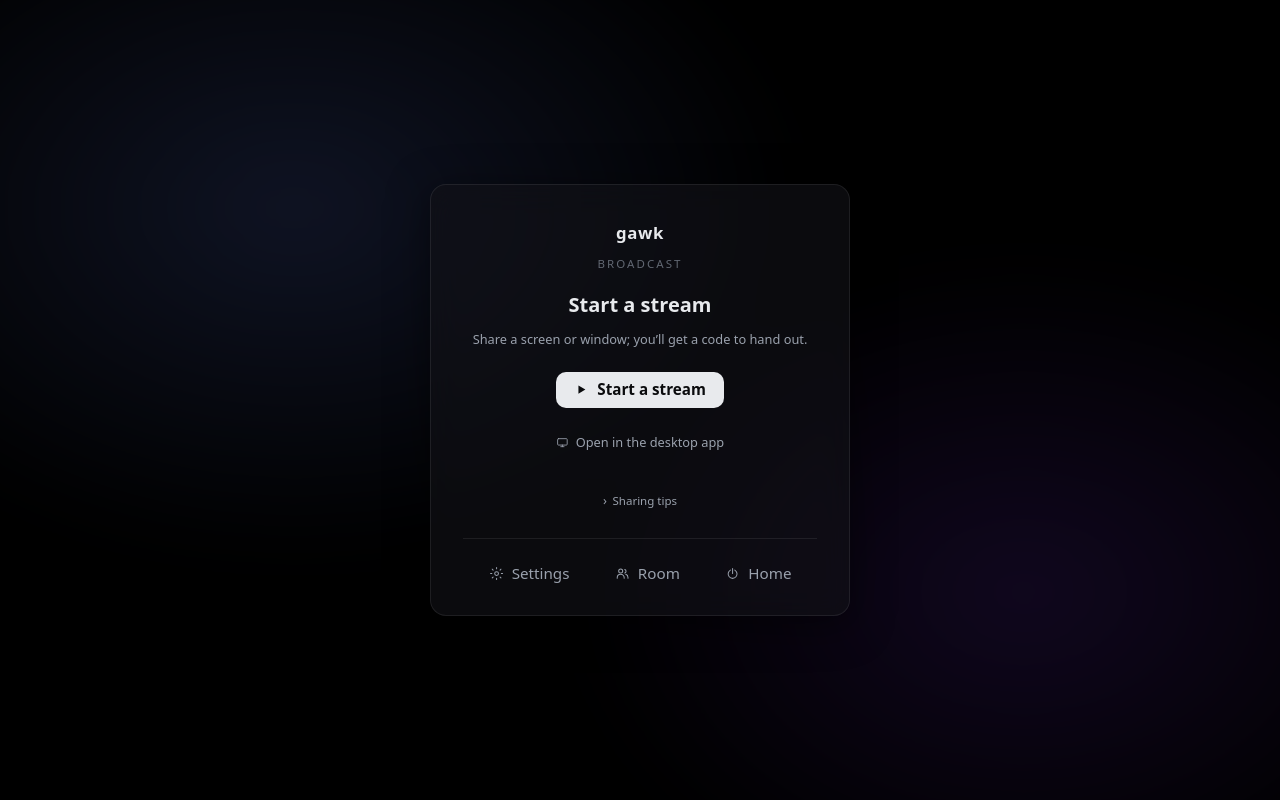
Test case: BroadcasterScreen terms acknowledgment gate › first start shows the terms modal and connects nothing
Step 1. Click the button "Start a stream" → click(640, 390), box [556,372,724,408]
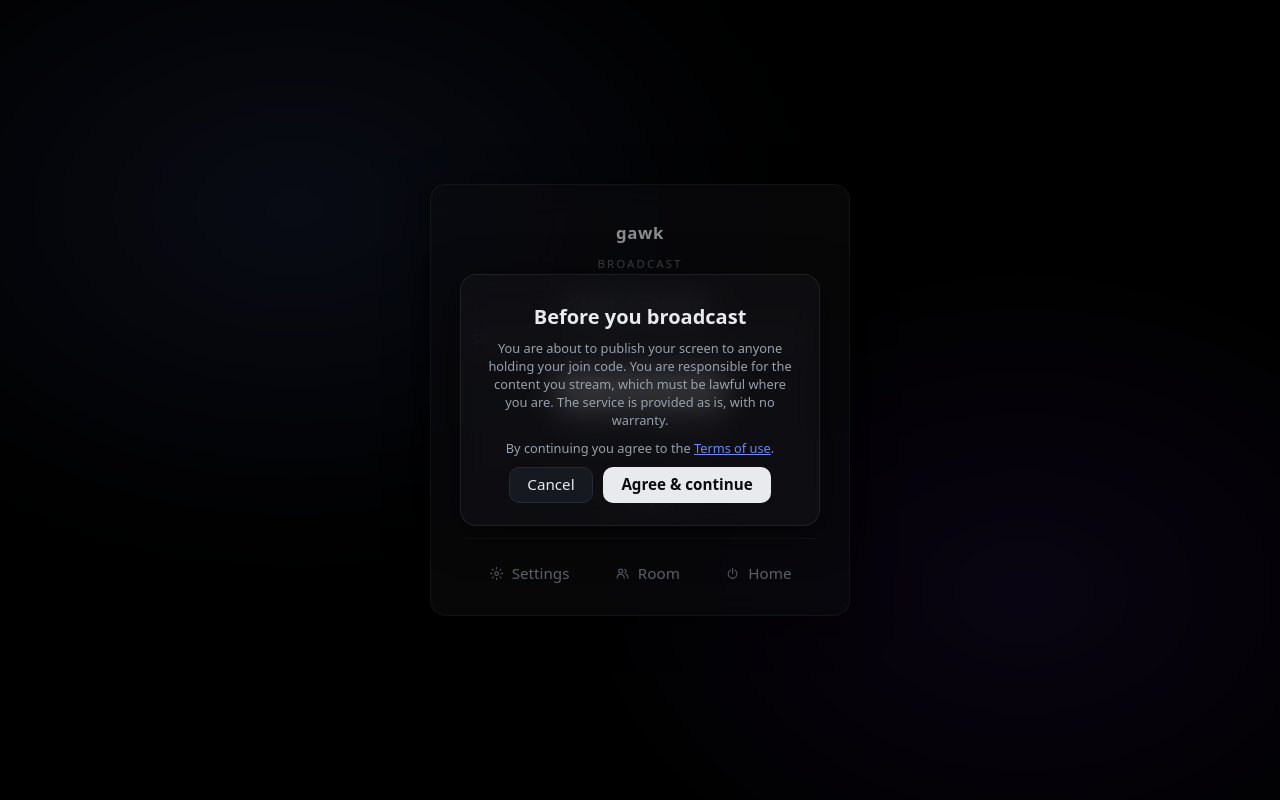
Check: the heading "Before you broadcast" is shown, box [534,303,746,330]
